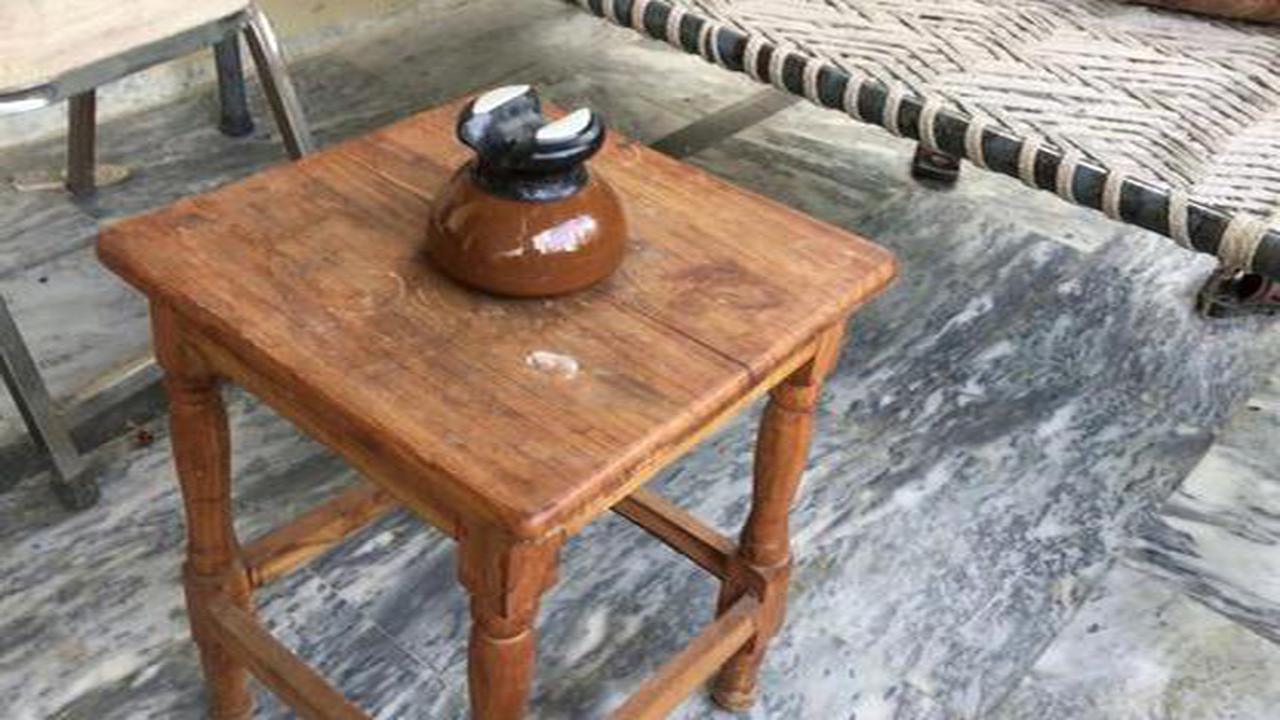insulator_pin: (419, 70, 644, 309)
